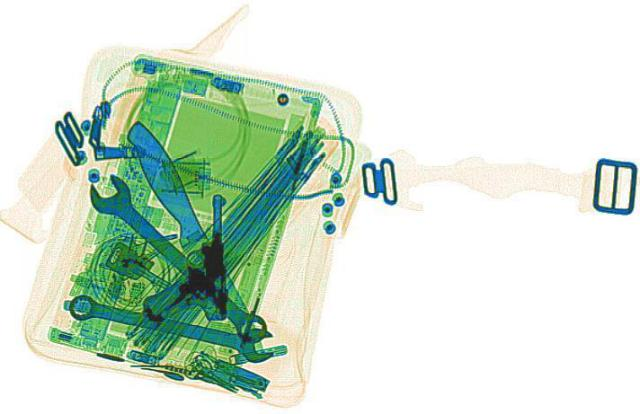Gun: (132, 190, 228, 319)
Knife: (117, 118, 251, 318)
Wrench: (71, 171, 283, 349), (59, 286, 284, 363)
